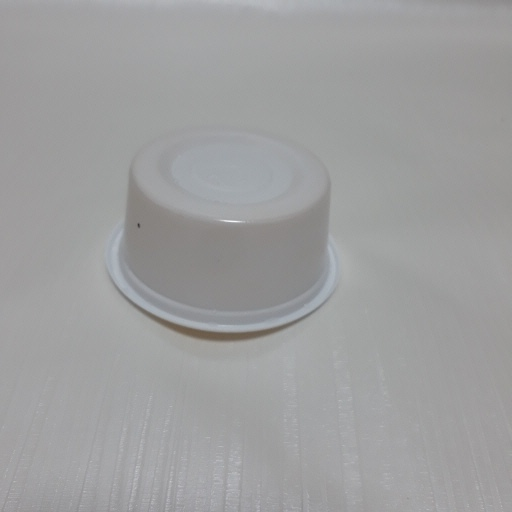Plastic_5: (97, 126, 343, 342)
